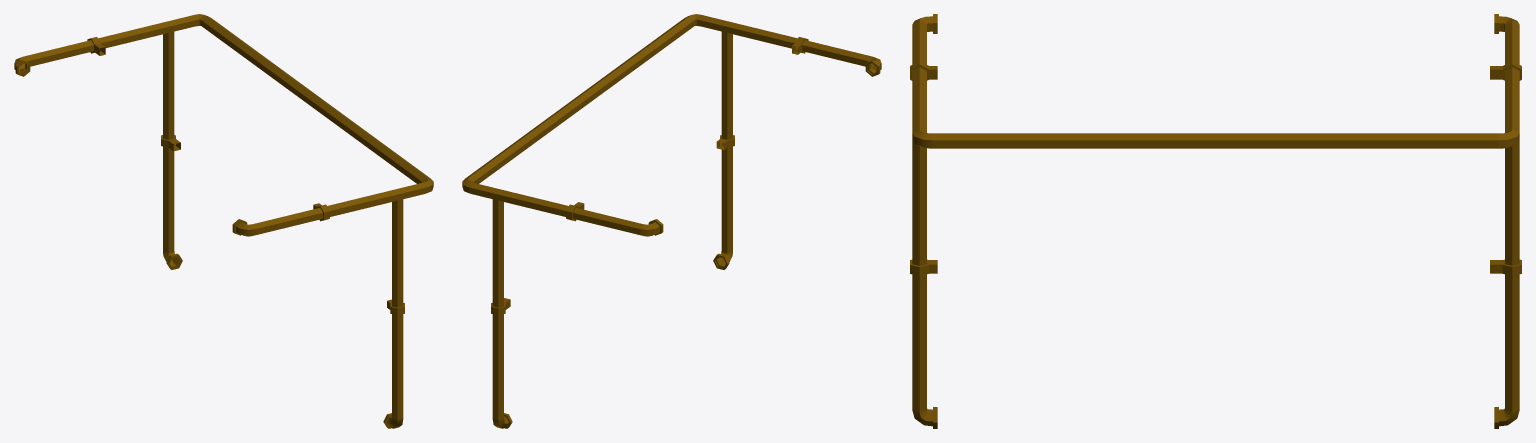
Rendered from FoodStandPipe.fbx.
3 views of the same model, side by side, from view 1: azimuth 30°, elevation 25°; view 2: azimuth 150°, elevation 25°; view 3: azimuth 270°, elevation 25° (orthographic). The views are drawn at different scales.
Parts seen in each view (by area): view 1: pCylinder14; view 2: pCylinder14; view 3: pCylinder14.
Part boxes in pixels (x1=…): pCylinder14: x1=14, y1=14, x2=433, y2=428; pCylinder14: x1=462, y1=14, x2=881, y2=428; pCylinder14: x1=910, y1=14, x2=1521, y2=428.
Bounding box in the file's own units: 6.44 × 7.66 × 13.42.
